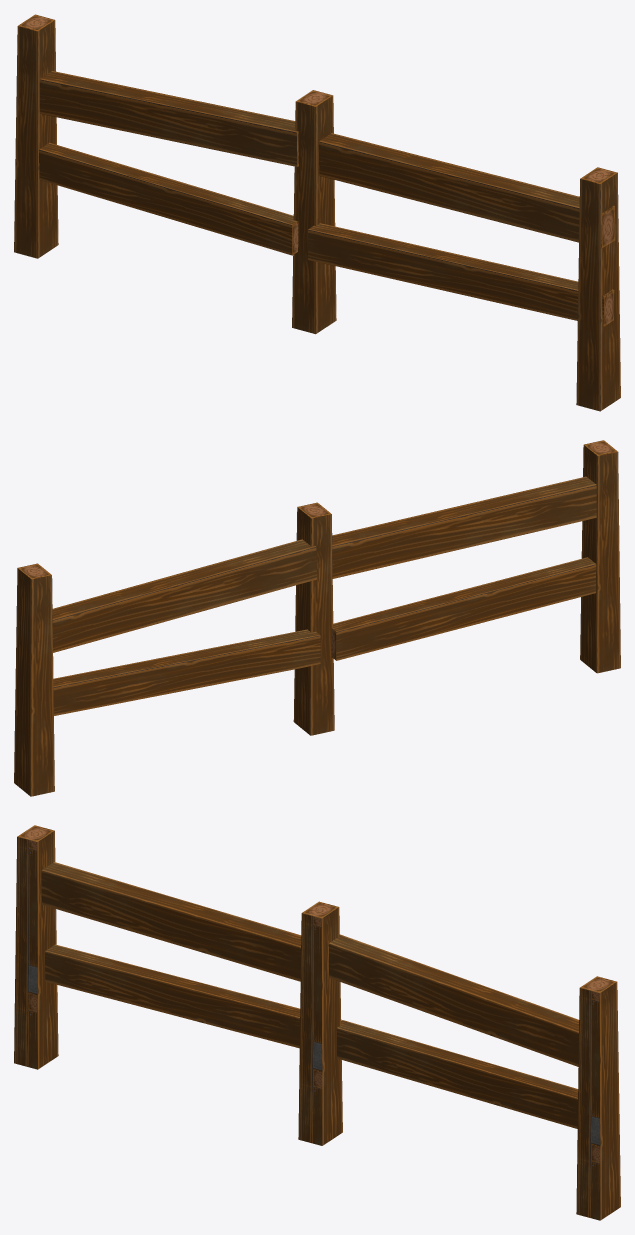
3 renders of one model, top to bottom at view 1: azimuth 90°, elevation 25°; view 2: azimuth 150°, elevation 25°; view 3: azimuth 270°, elevation 25°, orthographic. The views are drawn at different scales.
Parts seen in each view (by area): view 1: Cube.020; view 2: Cube.020; view 3: Cube.020.
Part boxes in pixels (left/top/right/bottom): Cube.020: left=14, top=14, right=620, bottom=411; Cube.020: left=14, top=440, right=620, bottom=796; Cube.020: left=14, top=825, right=620, bottom=1220.
Size of the model in its own units: 215 by 132 by 321.
1 material, 1 textured.
